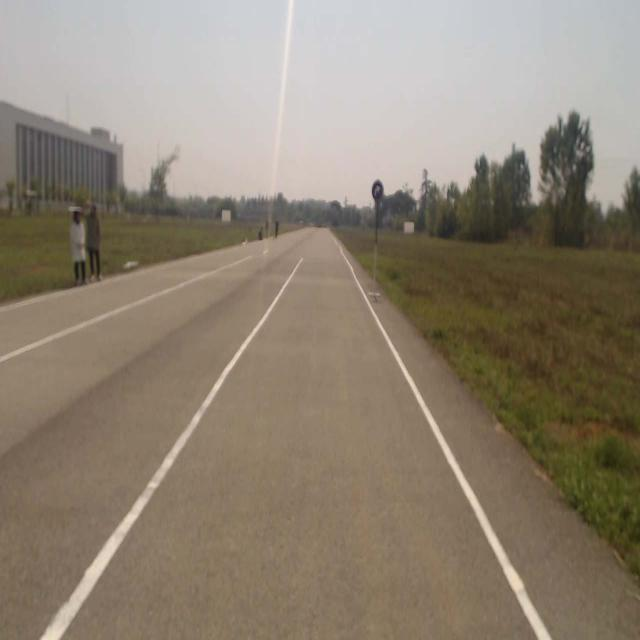sag: (372, 178, 383, 201)
